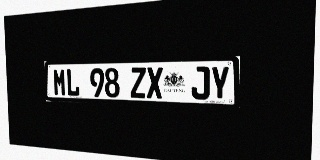8: (104, 68, 120, 97)
9: (90, 68, 105, 97)
J: (191, 66, 210, 100)
L: (66, 68, 80, 96)
M: (53, 68, 66, 96)
X: (146, 67, 163, 99)
Y: (210, 66, 230, 100)
Z: (130, 67, 146, 98)
